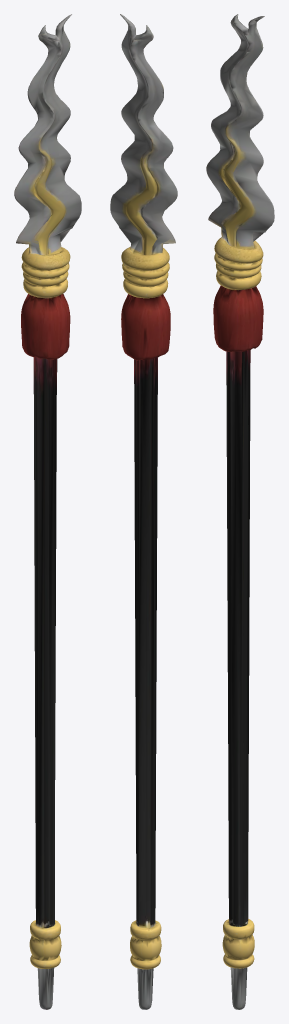
Rendered from mau.glb.
3 renders of one model, left to right at view 1: azimuth 30°, elevation 25°; view 2: azimuth 150°, elevation 25°; view 3: azimuth 330°, elevation 25°, orthographic.
Parts seen in each view (by area): view 1: node_0; view 2: node_0; view 3: node_0.
Part boxes in pixels (x1,y1,x2,y2): node_0: [14, 14, 81, 1009]; node_0: [110, 14, 177, 1009]; node_0: [206, 14, 274, 1009].
Bounding box in the file's own units: 0.0728 × 1.02 × 0.0453.
Materials: 1 (1 with a texture image).
